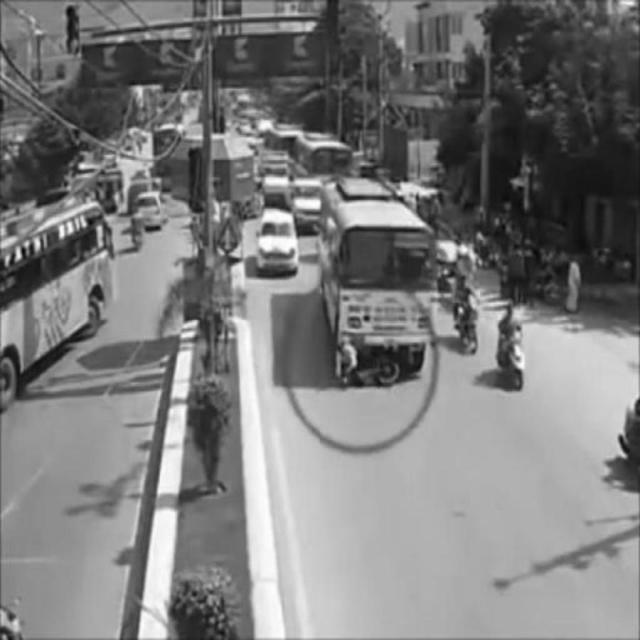accident: (318, 177, 431, 385)
vehicle: (496, 303, 526, 394), (260, 208, 298, 274), (455, 276, 482, 354)
